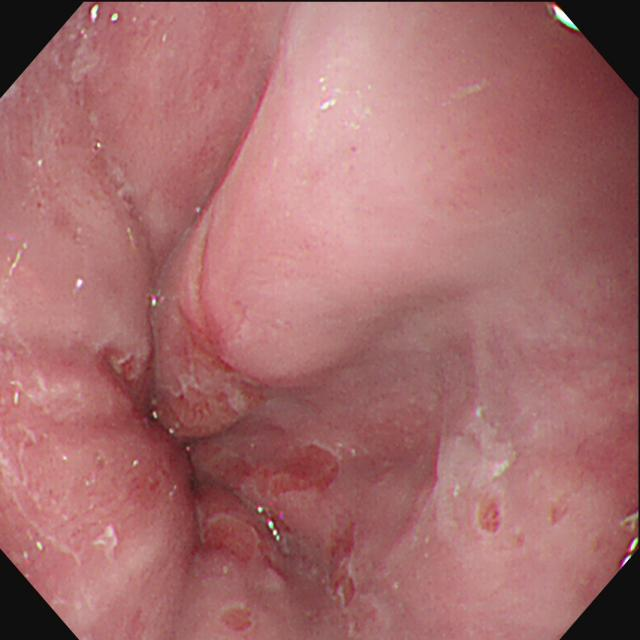D: (274, 445, 348, 499), (329, 523, 360, 607), (471, 493, 508, 539)
I: (88, 287, 284, 586)
J: (429, 412, 525, 497)
U: (543, 2, 582, 37), (618, 507, 640, 569), (256, 501, 286, 545), (86, 5, 122, 26)
